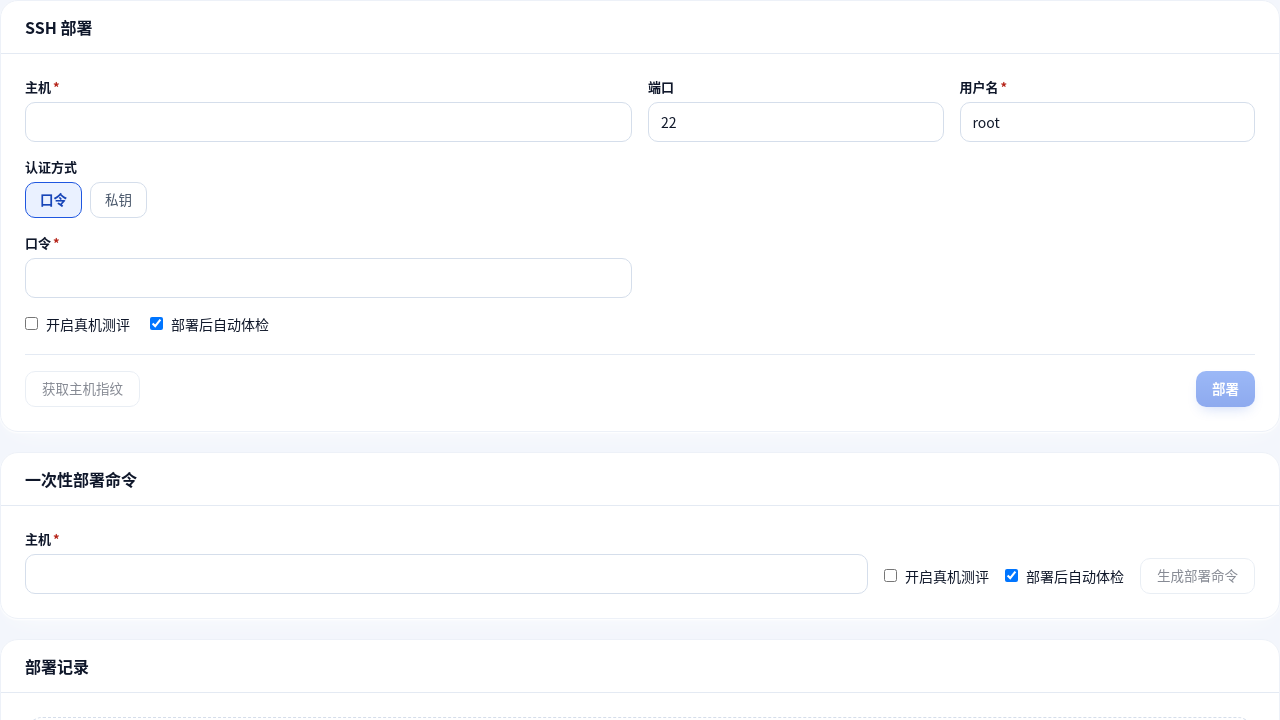
it: RemoteDeployTab › 不勾「已核对指纹」时部署按钮置灰
The image size is (1280, 720).
In the field labelled "主机*" below "端口": (328, 122) [25,102,632,142], type "10.0.0.8"
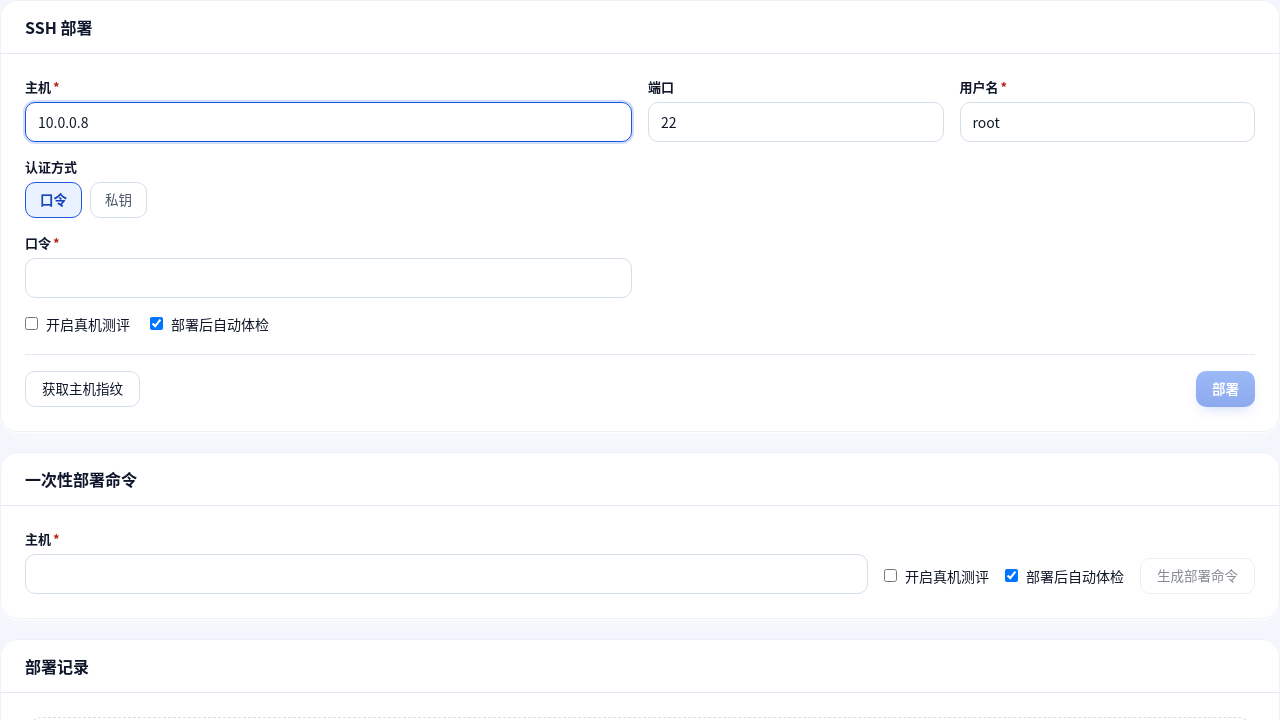
In the password field labelled "口令*": (328, 278) [25,258,632,298], type "pw-for-test"
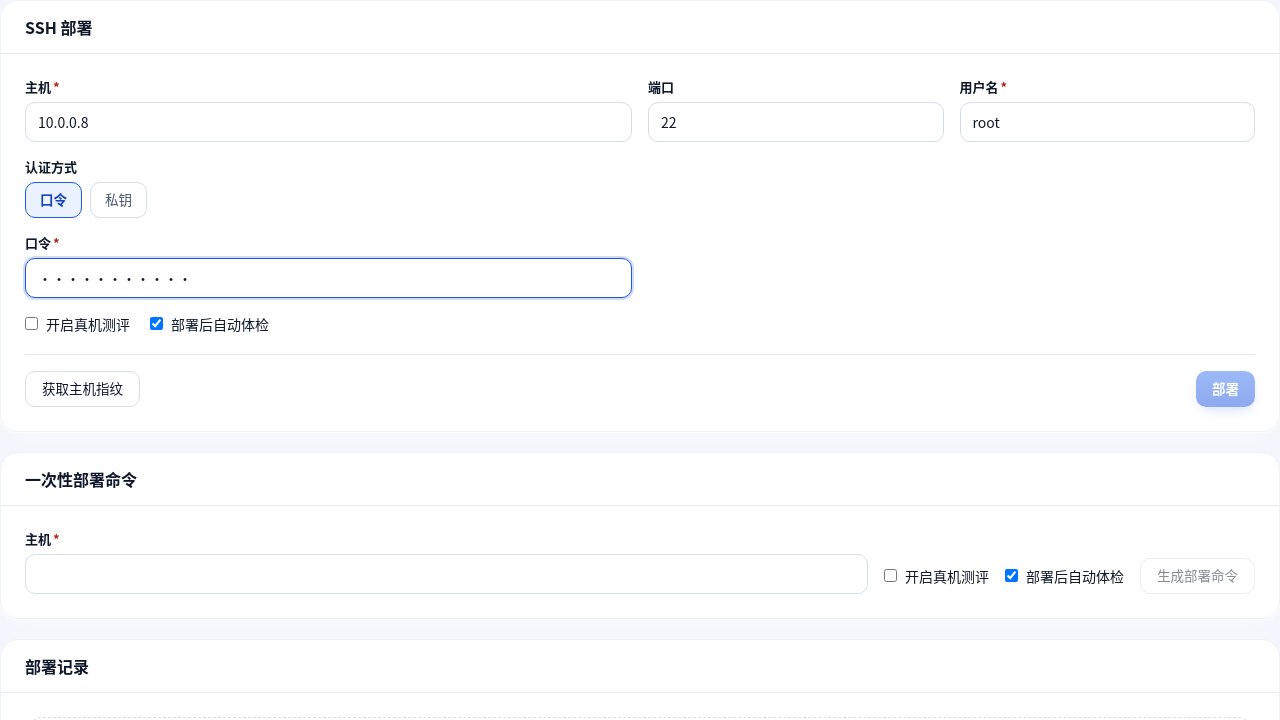
Click the button "获取主机指纹": (82, 389) [25,371,140,407]
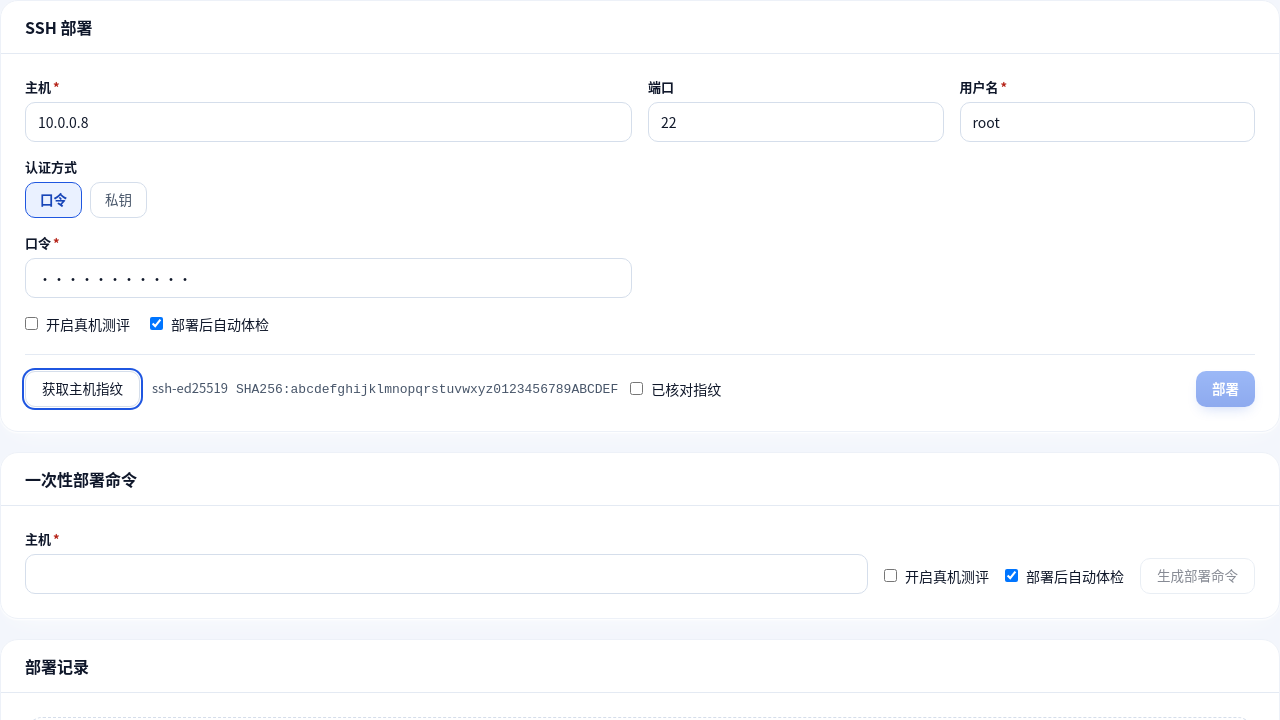
Expected: the button "部署" is disabled, [1196,371,1255,407]
Now the text "SHA256:abcdefghijklmnopqrstuvwxyz0123456789ABCDEF" is shown, box [236,382,618,396]
Click the checkbox labelled "已核对指纹": (637, 389) [630,382,643,395]
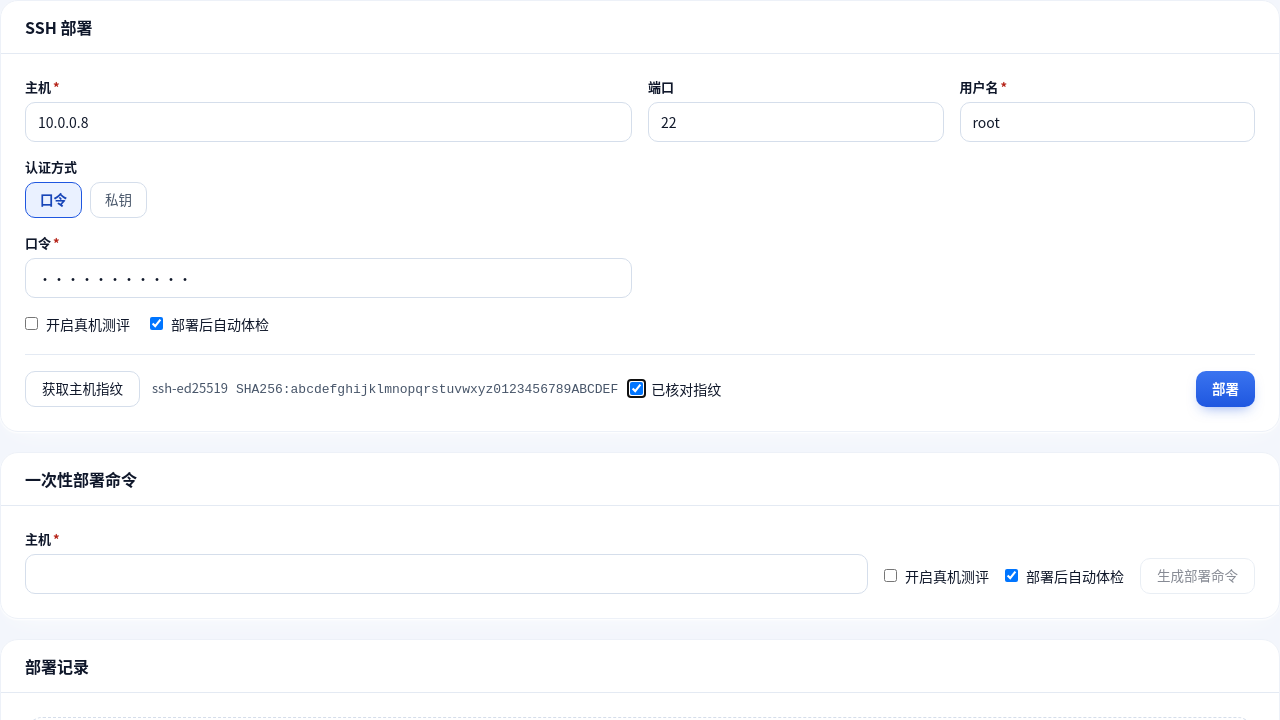
Now the button "部署" is enabled, box [1196,371,1255,407]
In the field labelled "主机*" below "端口": (328, 122) [25,102,632,142], type "9"
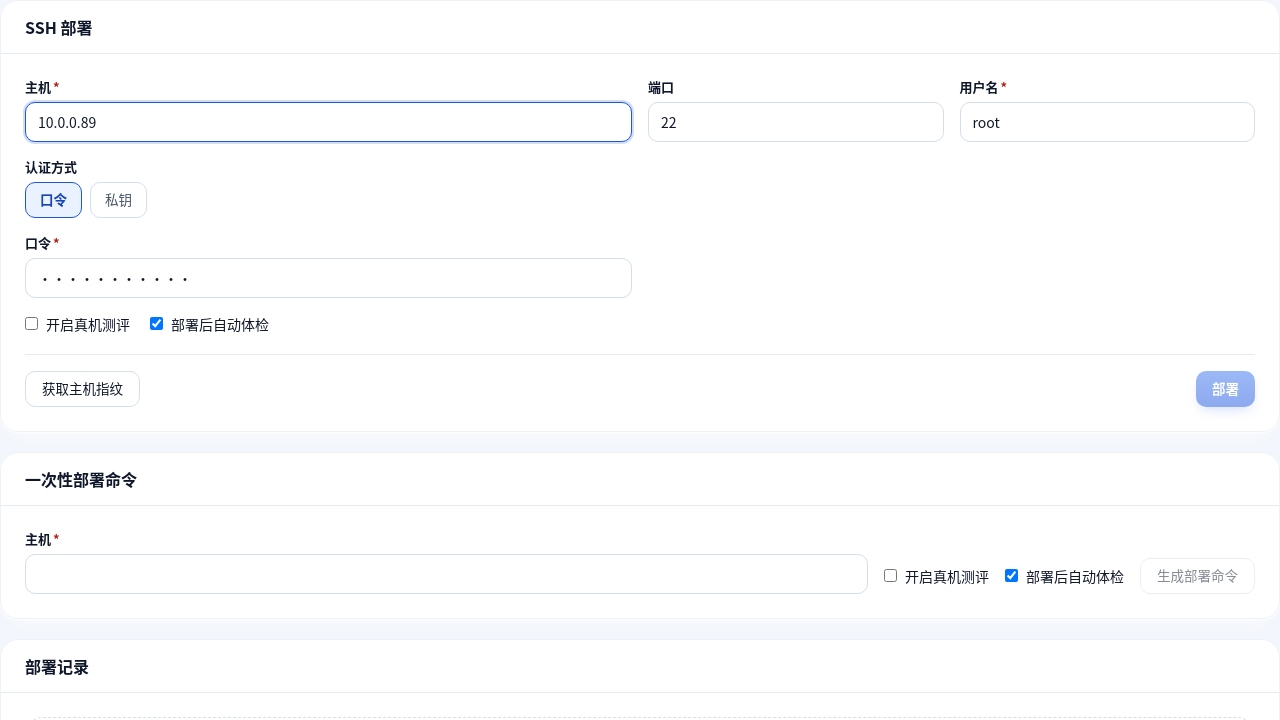
Now the text "SHA256:abcdefghijklmnopqrstuvwxyz0123456789ABCDEF" is gone
Now the button "部署" is disabled, box [1196,371,1255,407]
